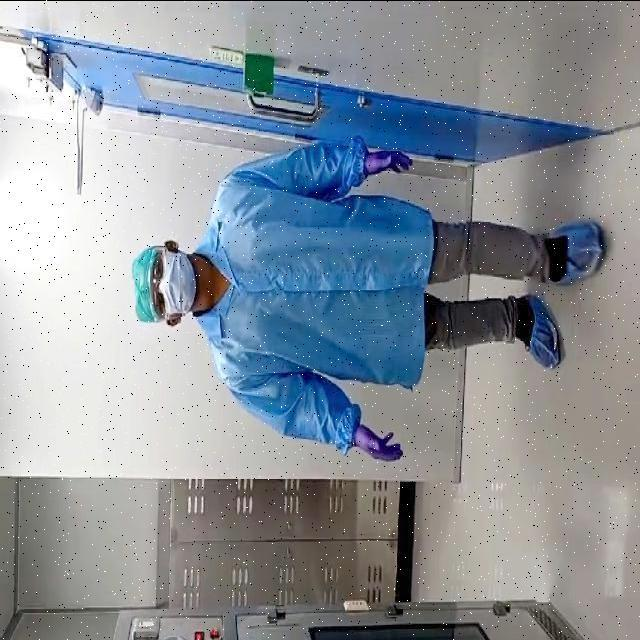apron: (349, 422, 406, 462), (359, 144, 416, 182)
